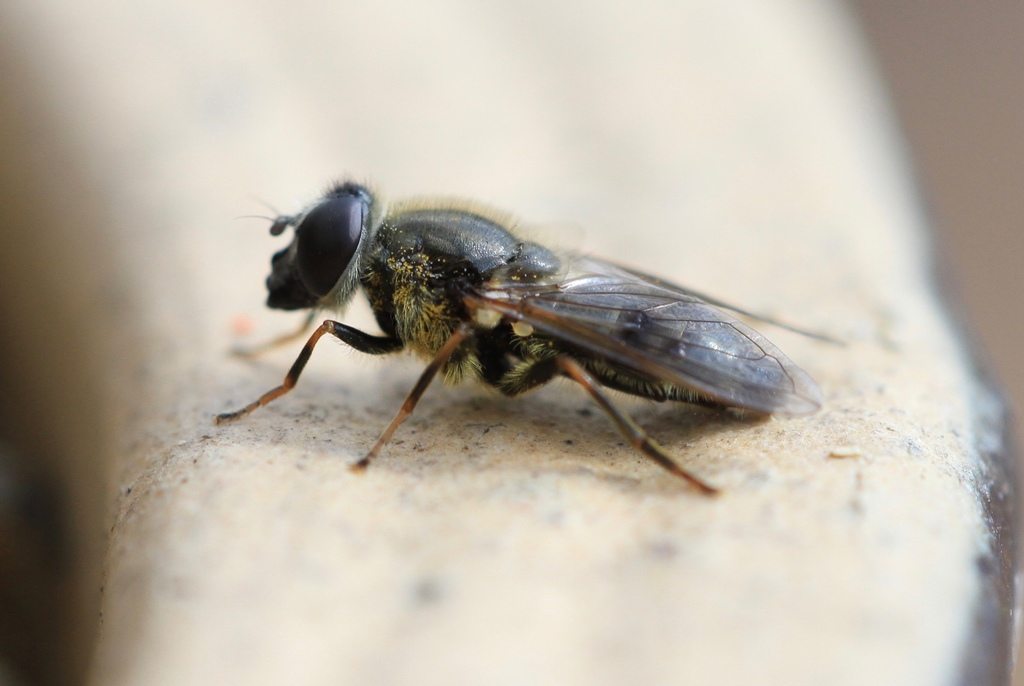not_bumblebee: (214, 177, 843, 501)
